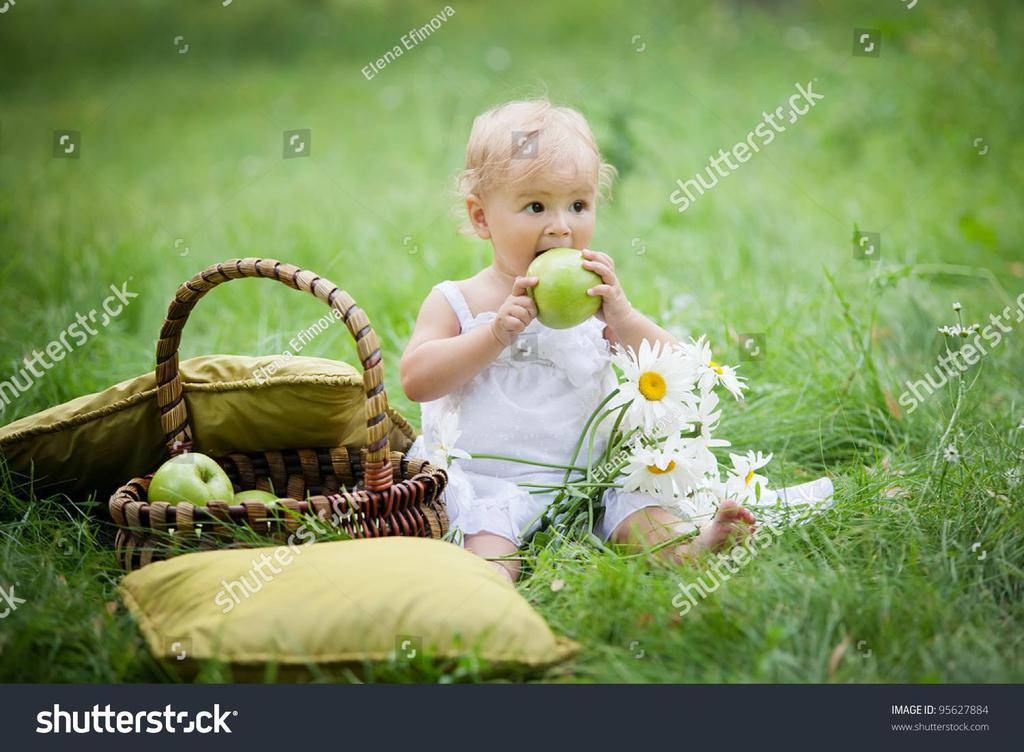child: (359, 84, 762, 577)
